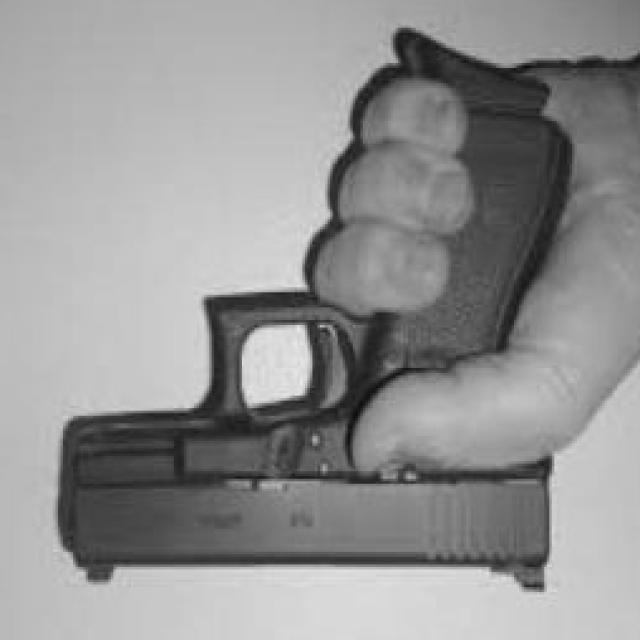pistol: (56, 32, 578, 587)
